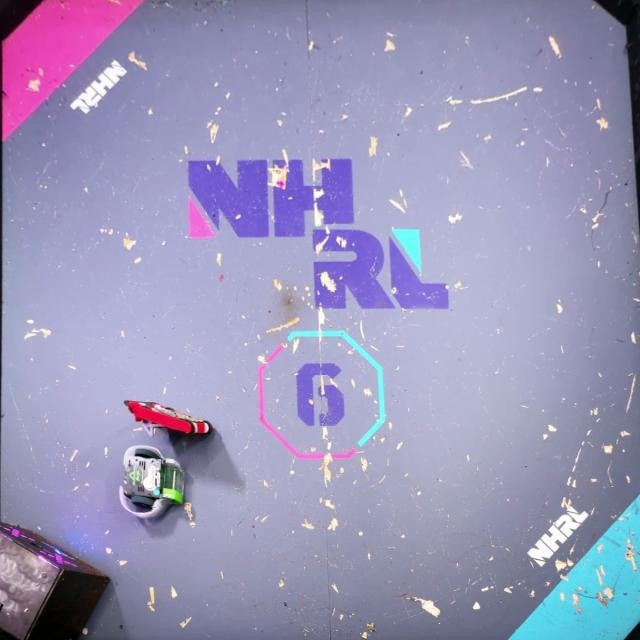housebot: (0, 520, 109, 640)
robot: (120, 444, 185, 522), (123, 397, 215, 441)
